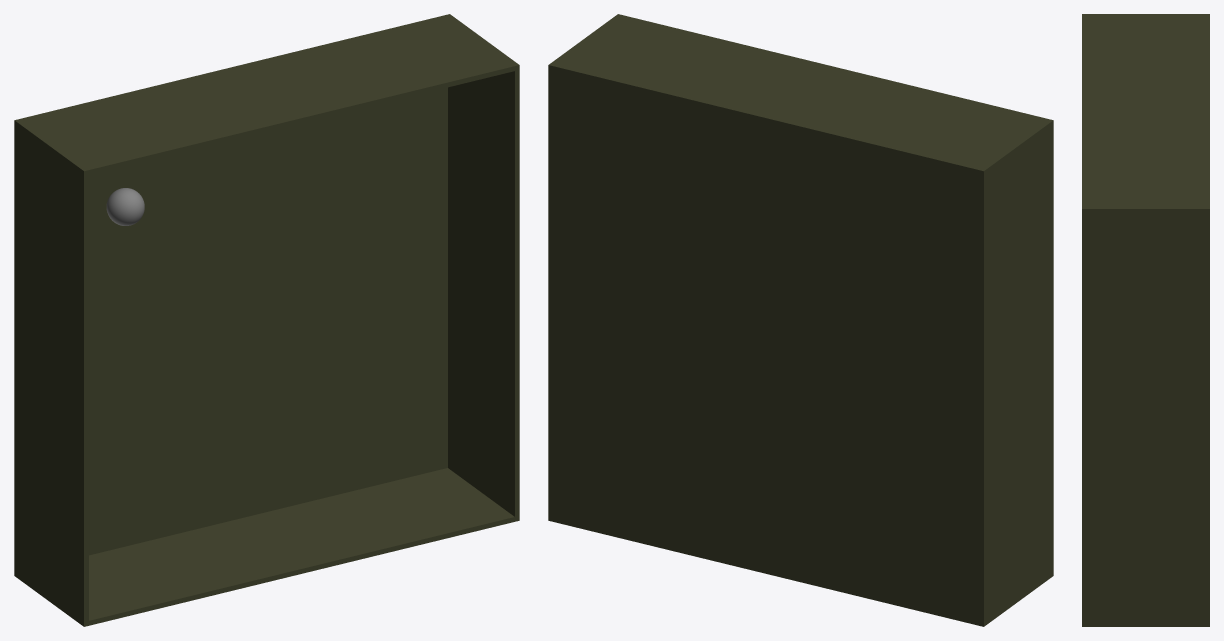
Rendered from MazeCourse.fbx.
3 renders of one model, left to right at view 1: azimuth 30°, elevation 25°; view 2: azimuth 150°, elevation 25°; view 3: azimuth 270°, elevation 25°, orthographic. The views are drawn at different scales.
Visible parts, largest first — view 1: Object_3, Object_1, Layer 03; view 2: Object_3, Object_1; view 3: Object_3.
Boxes of the visible parts, x1=… form: Object_3: x1=14, y1=14, x2=519, y2=626; Object_1: x1=89, y1=122, x2=447, y2=536; Layer 03: x1=106, y1=188, x2=144, y2=225; Object_3: x1=548, y1=14, x2=1053, y2=626; Object_1: x1=553, y1=105, x2=978, y2=586; Object_3: x1=1082, y1=14, x2=1209, y2=626.
Bounding box in the file's own units: 184 × 184 × 51.
